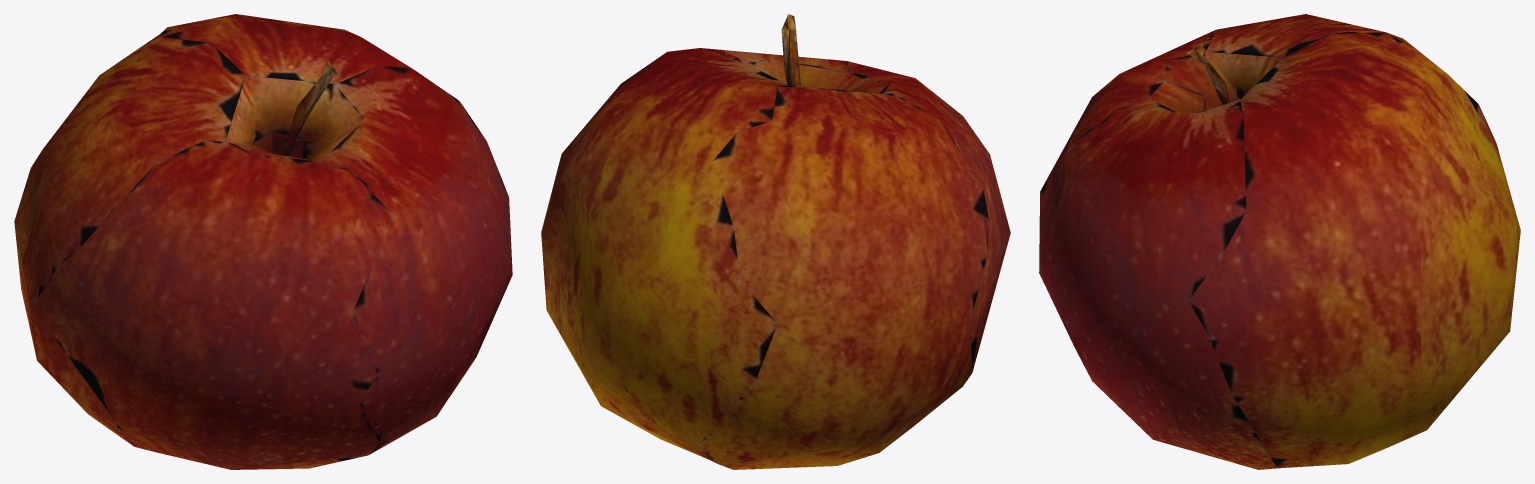
Rendered from food_apple_01.gltf.
3 views of the same model, side by side, from view 1: azimuth 30°, elevation 25°; view 2: azimuth 150°, elevation 25°; view 3: azimuth 270°, elevation 25° (orthographic). The views are drawn at different scales.
Parts seen in each view (by area): view 1: food_apple_01; view 2: food_apple_01; view 3: food_apple_01.
Part boxes in pixels (x1=…): food_apple_01: x1=14, y1=14, x2=512, y2=469; food_apple_01: x1=541, y1=14, x2=1010, y2=469; food_apple_01: x1=1039, y1=14, x2=1520, y2=469.
Bounding box in the file's own units: 0.0969 × 0.0848 × 0.0943.
1 material, 1 textured.
